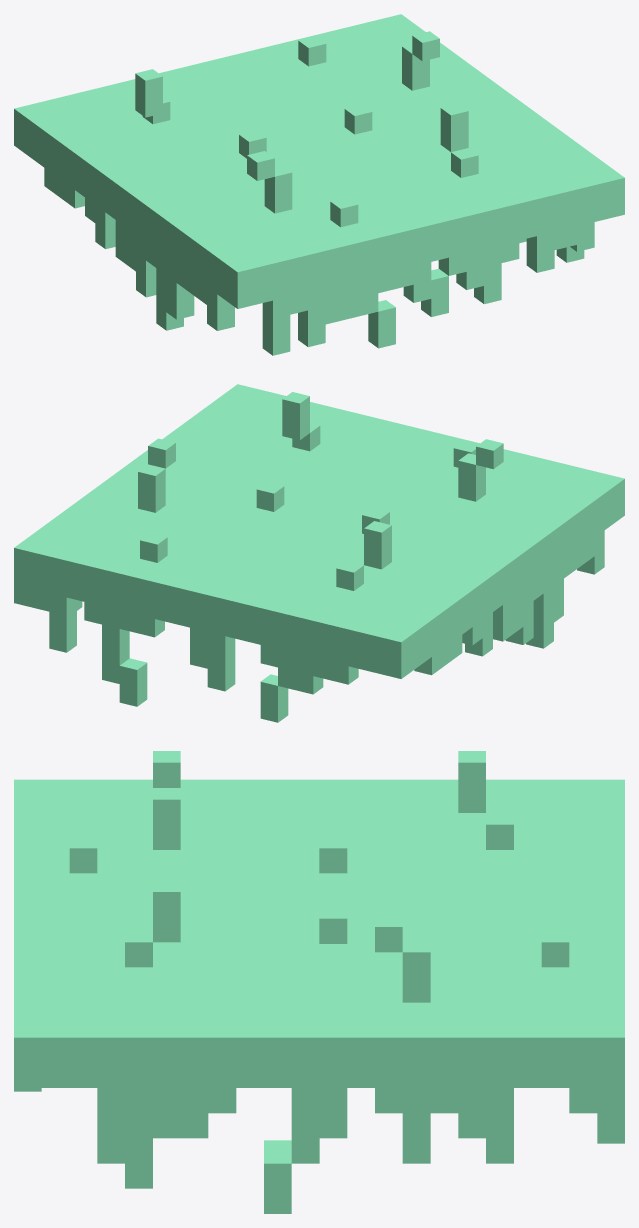
Rendered from Grass.obj.
3 renders of one model, top to bottom at view 1: azimuth 30°, elevation 25°; view 2: azimuth 150°, elevation 25°; view 3: azimuth 270°, elevation 25°, orthographic. The views are drawn at different scales.
Size of the model in its own units: 2.2 by 1 by 2.2.
